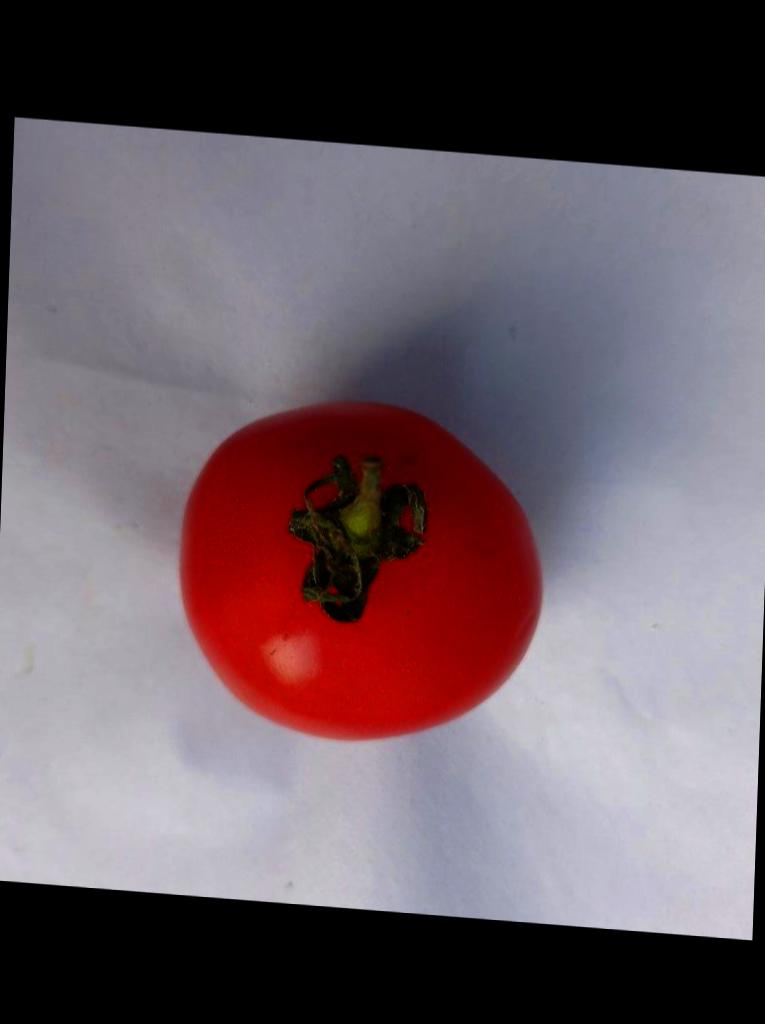tomato: (181, 403, 539, 739)
